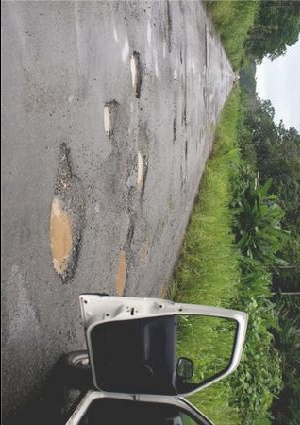pothole: (47, 141, 88, 287), (114, 244, 133, 298), (129, 47, 145, 98), (100, 98, 119, 138), (135, 150, 149, 194), (163, 0, 175, 50), (170, 115, 179, 145)
